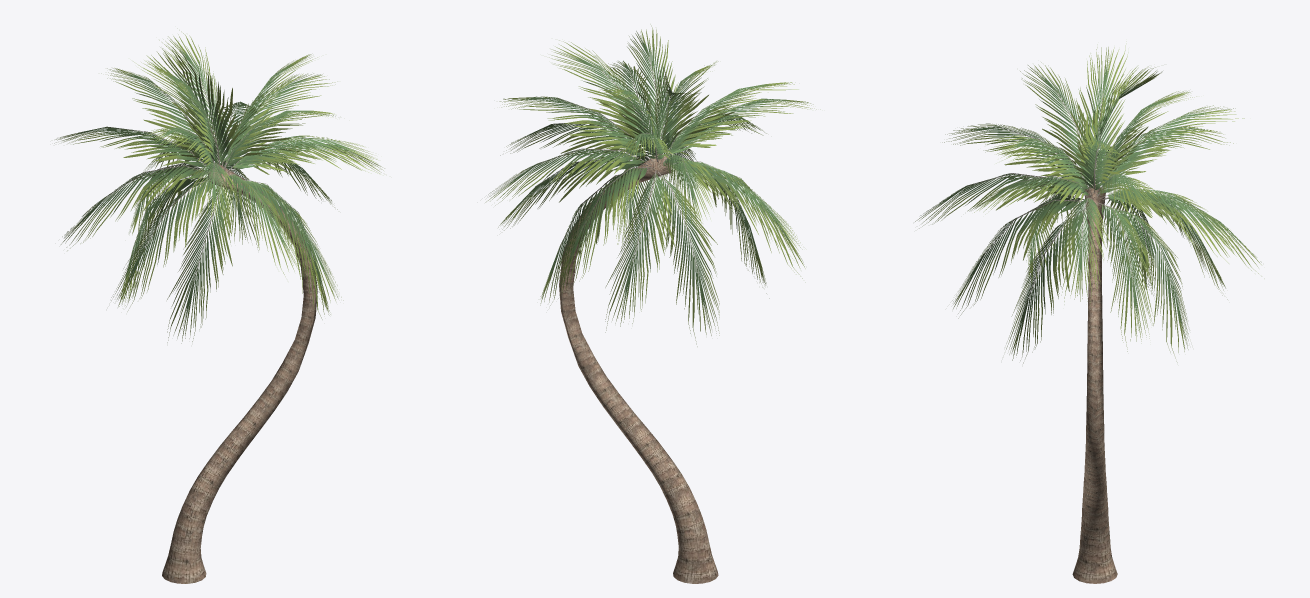
Rendered from palm_coconut_1.glb.
The picture shows the model from 3 angles, left to right: view 1: azimuth 30°, elevation 25°; view 2: azimuth 150°, elevation 25°; view 3: azimuth 270°, elevation 25°; orthographic projection. The views are drawn at different scales.
Visible parts, largest first — view 1: prop; view 2: prop; view 3: prop.
Boxes of the visible parts, <box> form: prop: <box>54,28,384,583</box>; prop: <box>485,24,820,583</box>; prop: <box>915,41,1264,583</box>.
Size of the model in its own units: 8.4 by 11.5 by 8.17.
2 materials, 2 textured.
